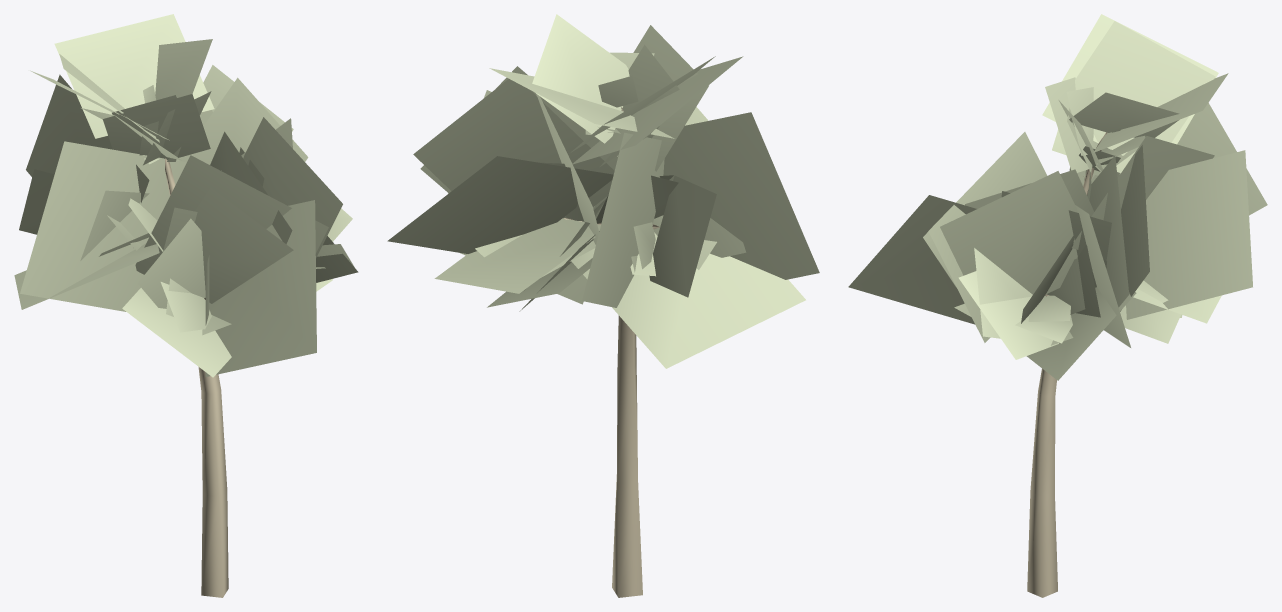
The model's file is sakura_lo.glb.
The picture shows the model from 3 angles, left to right: view 1: azimuth 30°, elevation 25°; view 2: azimuth 150°, elevation 25°; view 3: azimuth 270°, elevation 25°; orthographic projection. The views are drawn at different scales.
Size of the model in its own units: 6.37 by 10 by 7.38.
